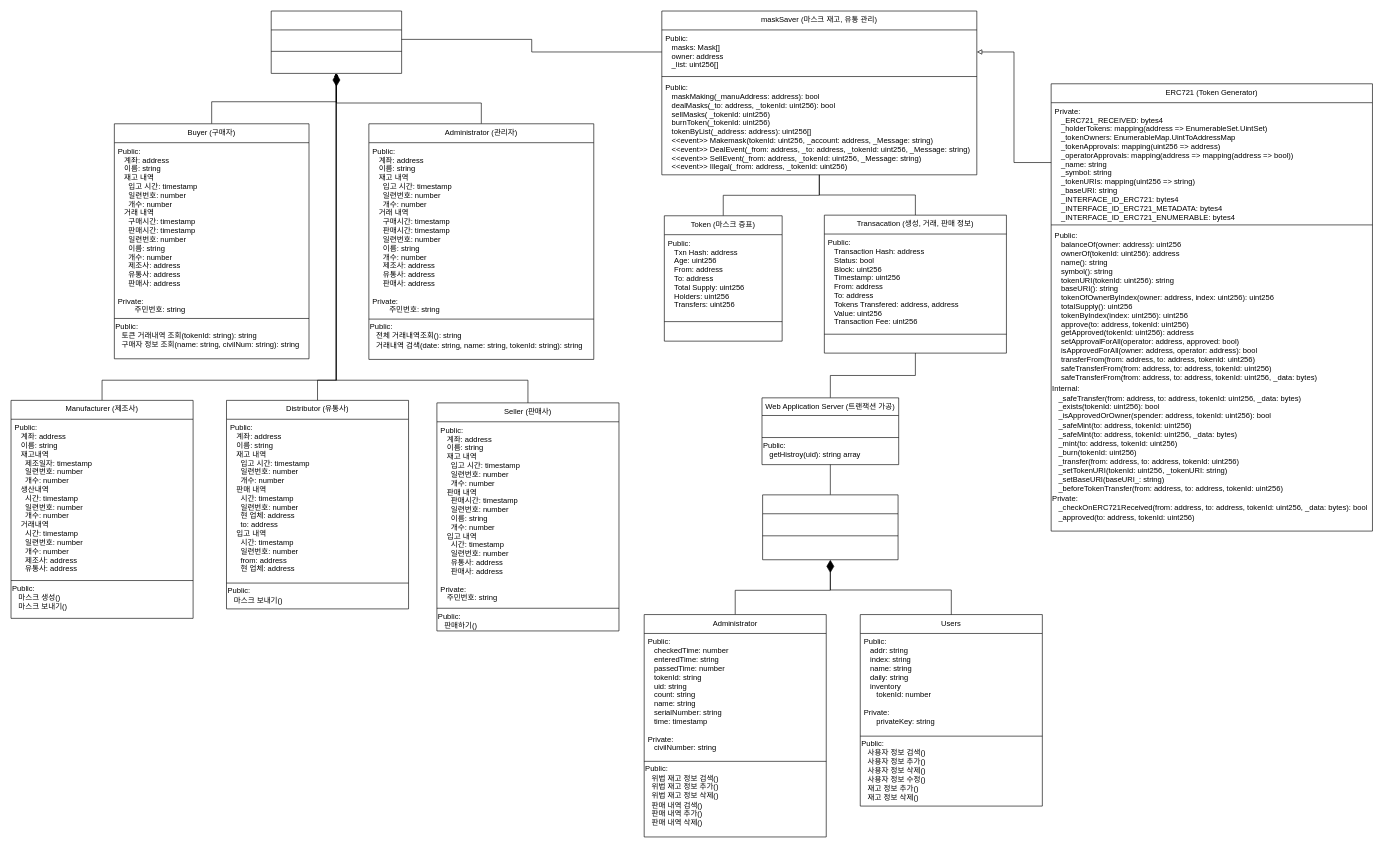
Some shapes in this 1383 by 849 pixel diagram are drawn without their labels. The centre of each missing label's shape, as x and y in pixels:
"maskSaver 앱 사용자" belongs at pixel 336 41.
"데이터베이스" belongs at pixel 830 527.
